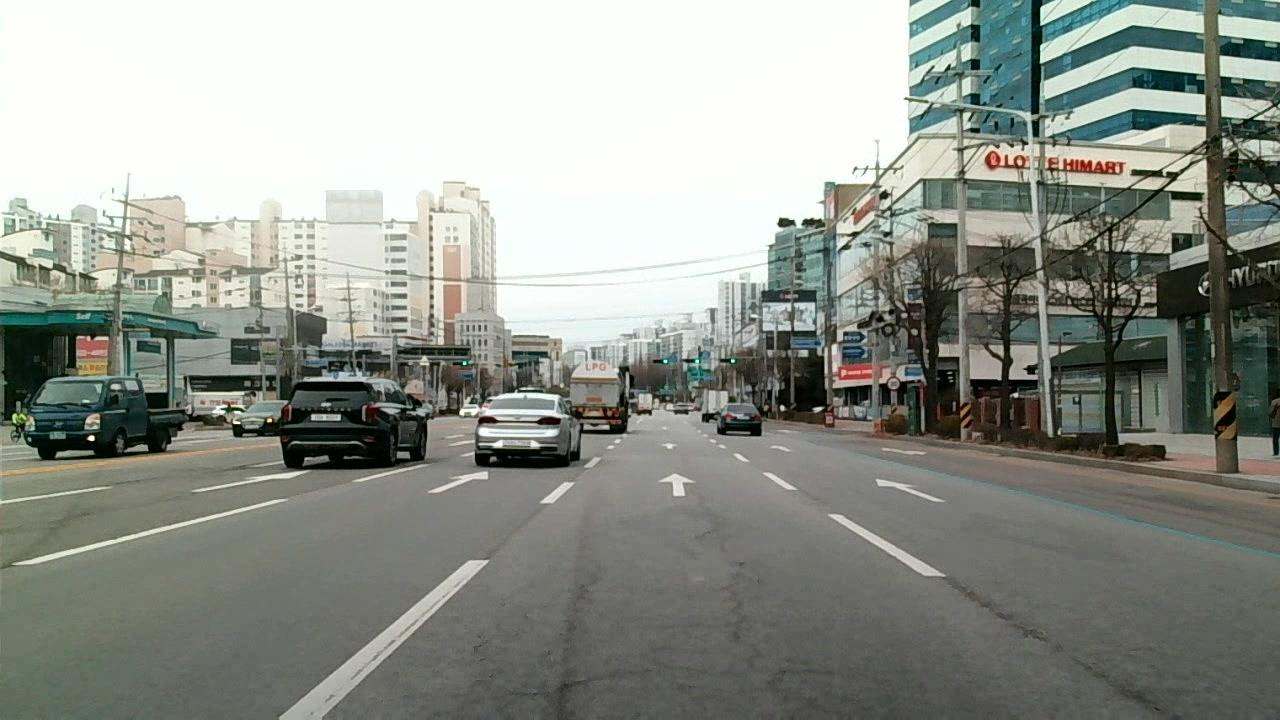banner: (551, 535, 612, 720), (1064, 648, 1168, 720), (946, 573, 1048, 644), (707, 517, 748, 652), (483, 507, 536, 559), (797, 489, 821, 506)
